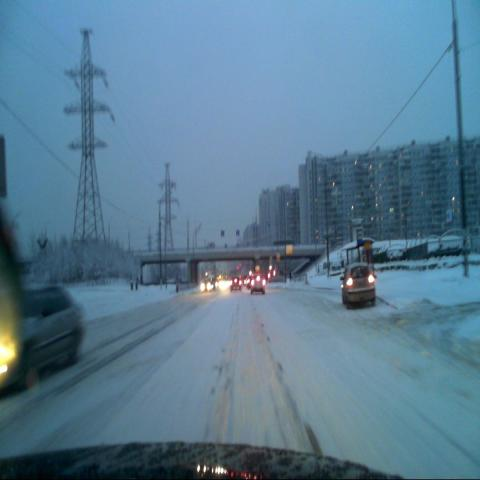5_16: (357, 227, 365, 248)
